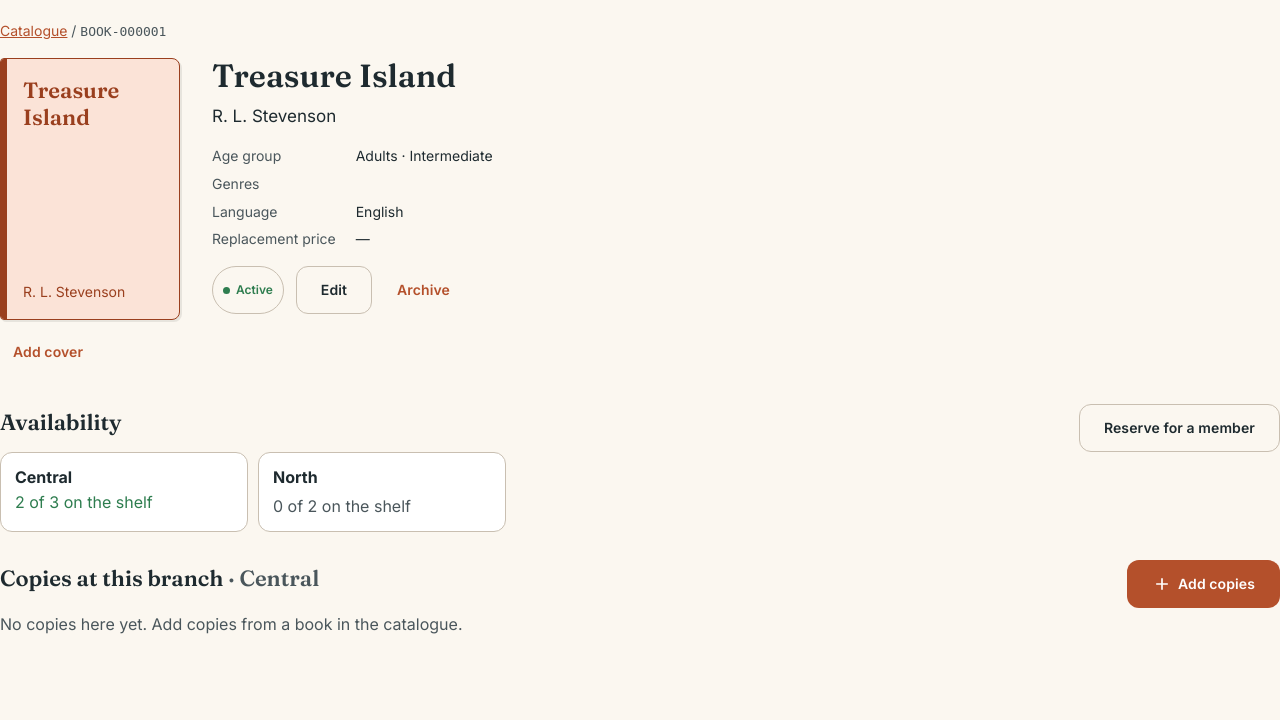
reserving from a book’s page › finds the member, then reserves this title for them at the branch being worked at
The width and height of the screenshot is (1280, 720).
Click the button "Reserve for a member".
click(1179, 428)  # box [1079,404,1279,452]
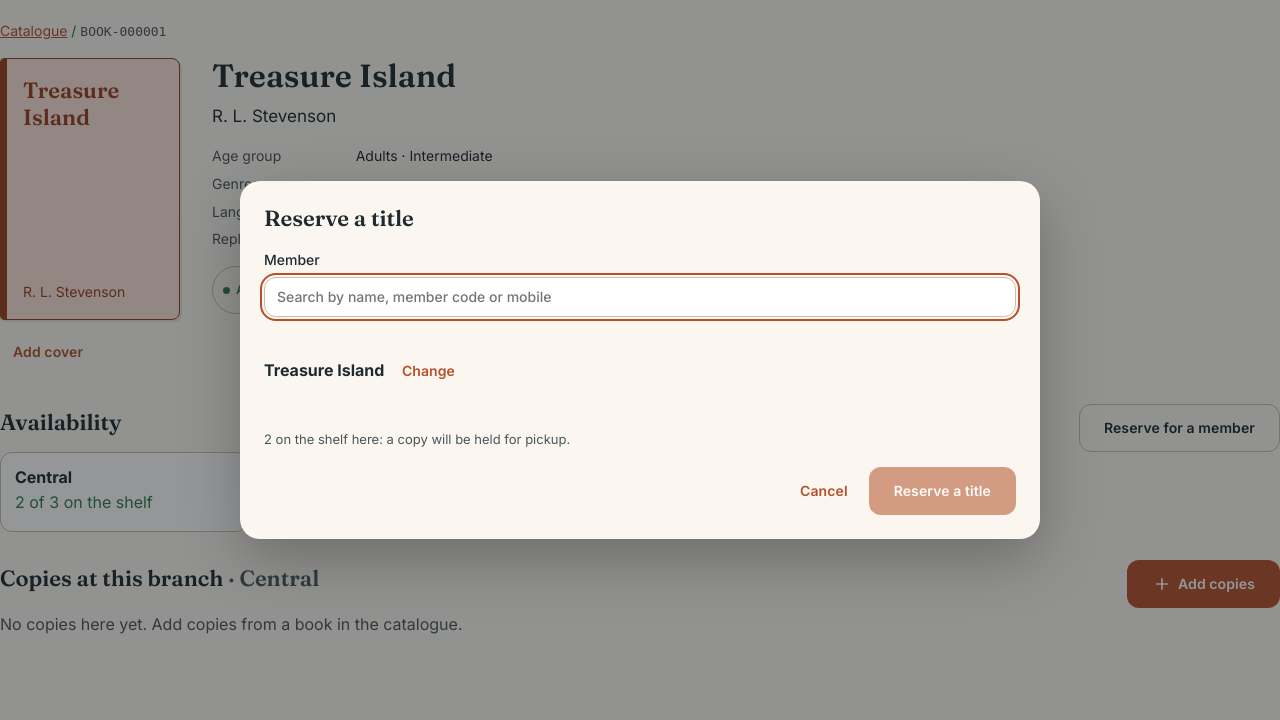
Result: the text "Treasure Island" is shown at [264,360,384,380]
Result: the button "Reserve a title" is disabled at [869,467,1016,515]
Type "asha" into the search field labelled "Member".
click(640, 296); type("asha")  # box [264,276,1016,316]
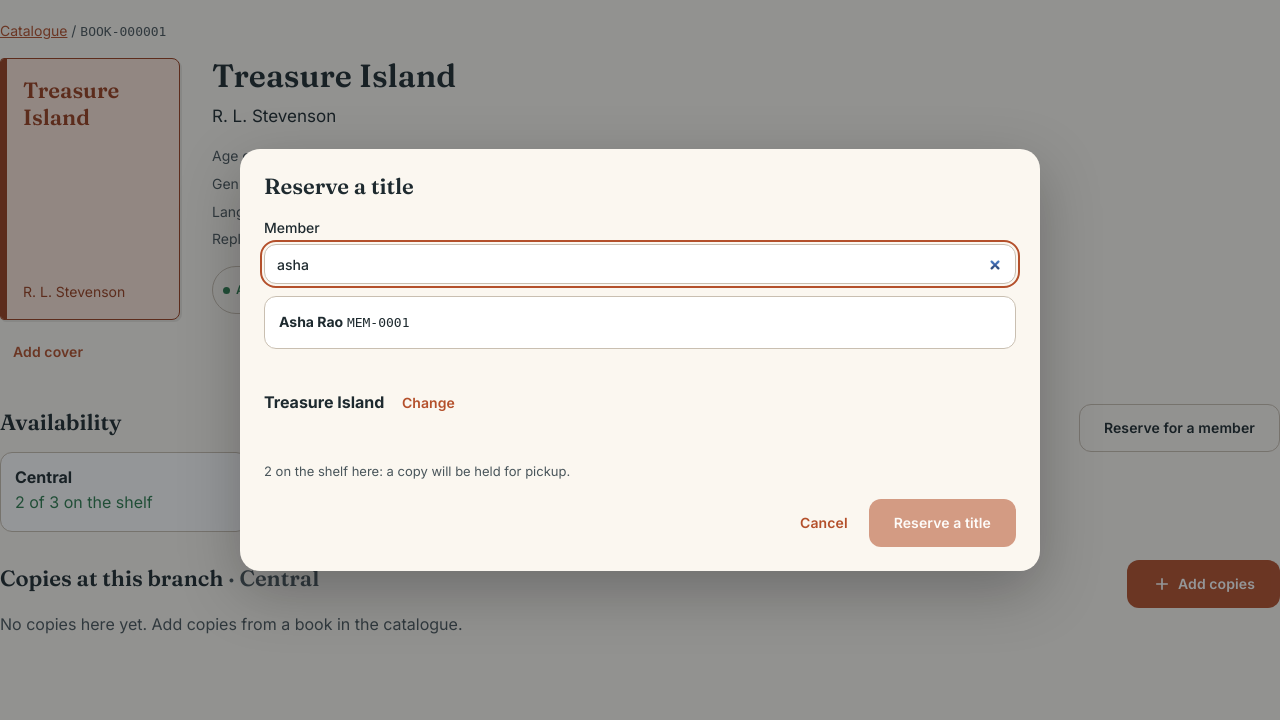
Click the button "Asha Rao MEM-0001".
click(311, 322)  # box [269,302,1011,344]
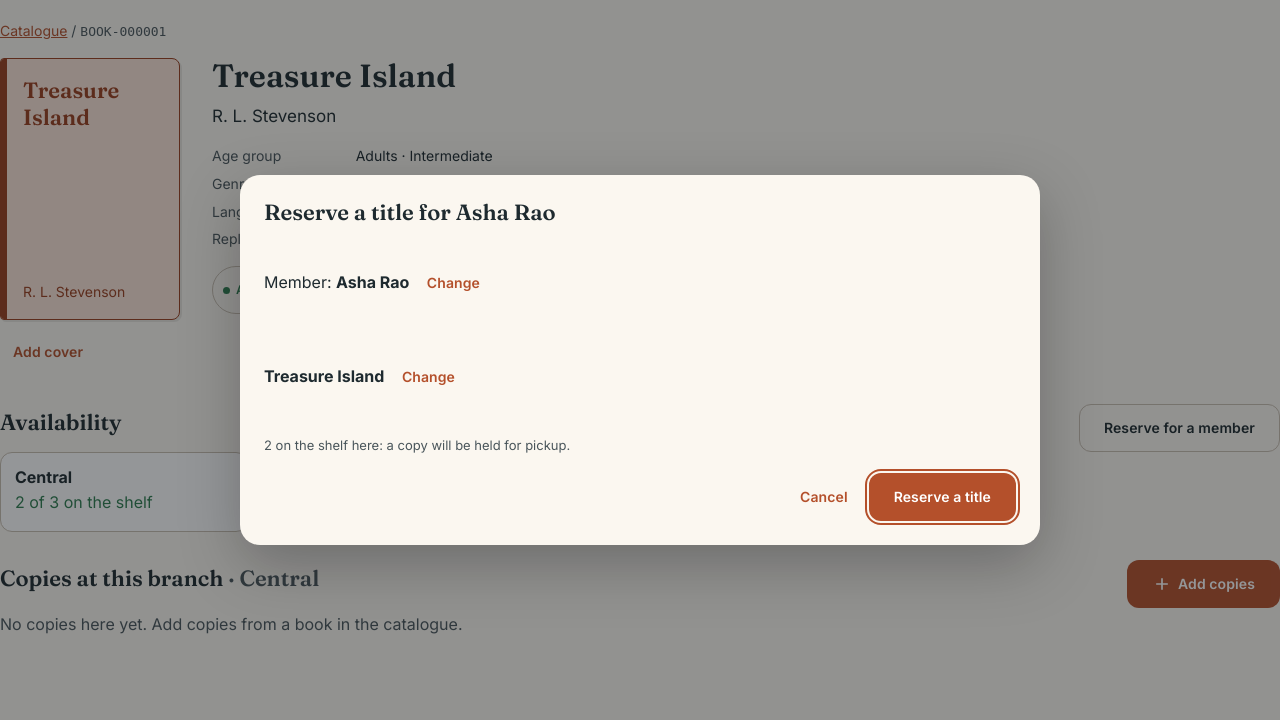
Click the button "Reserve a title".
click(942, 497)  # box [869,473,1016,521]
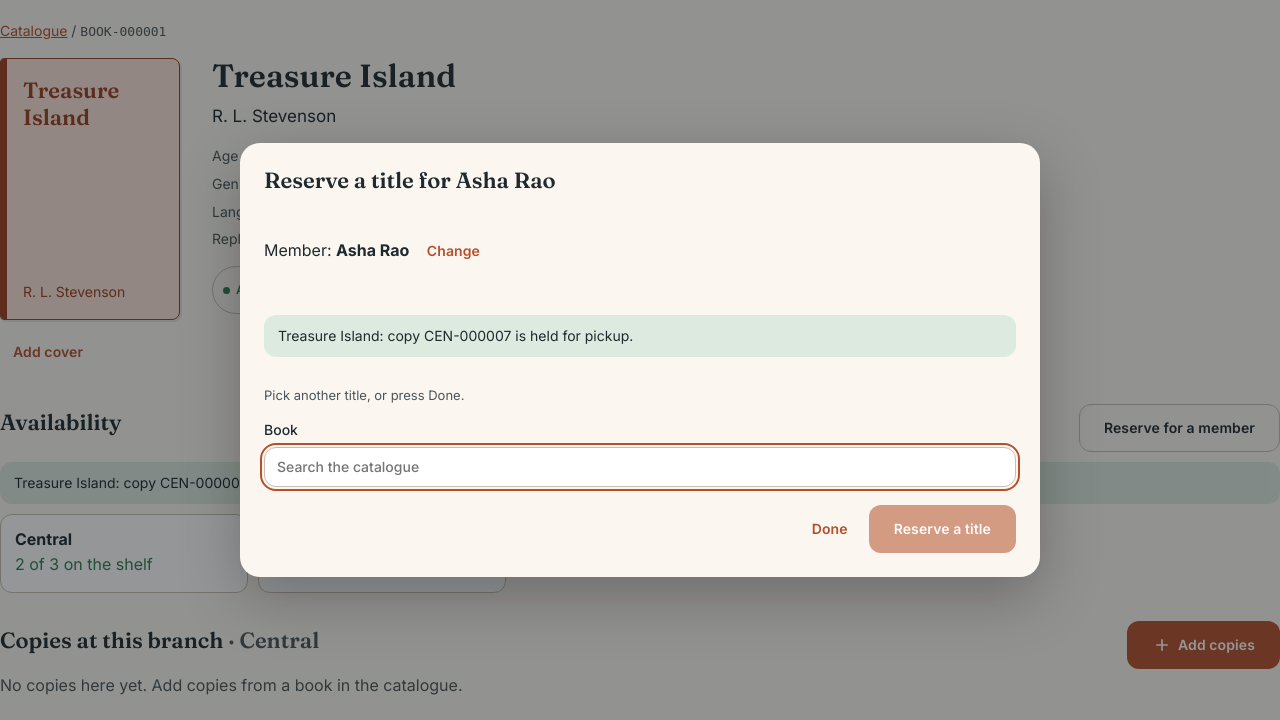
Click the button "Done".
click(830, 528)  # box [799,504,861,552]
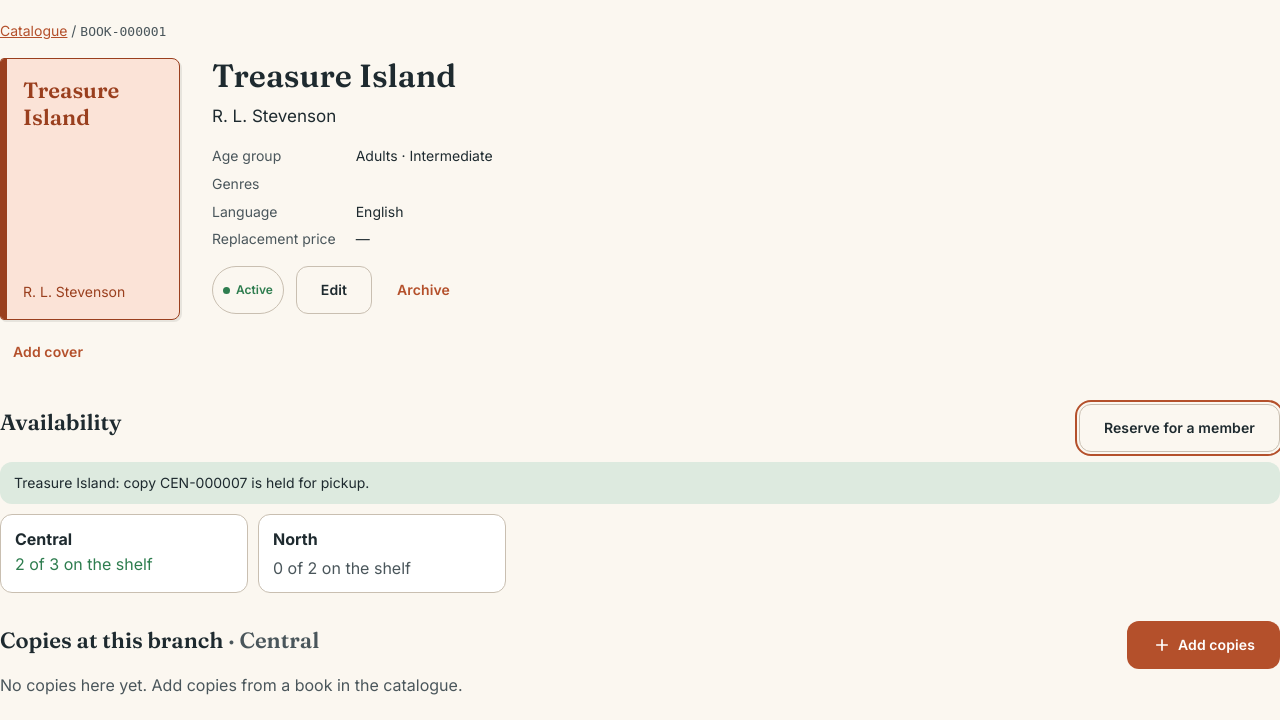
Result: the dialog is gone
